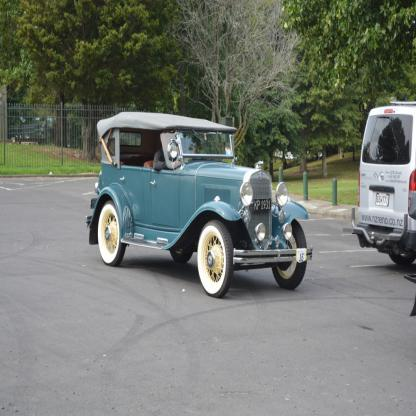car: (94, 114, 316, 298), (350, 96, 416, 264)
